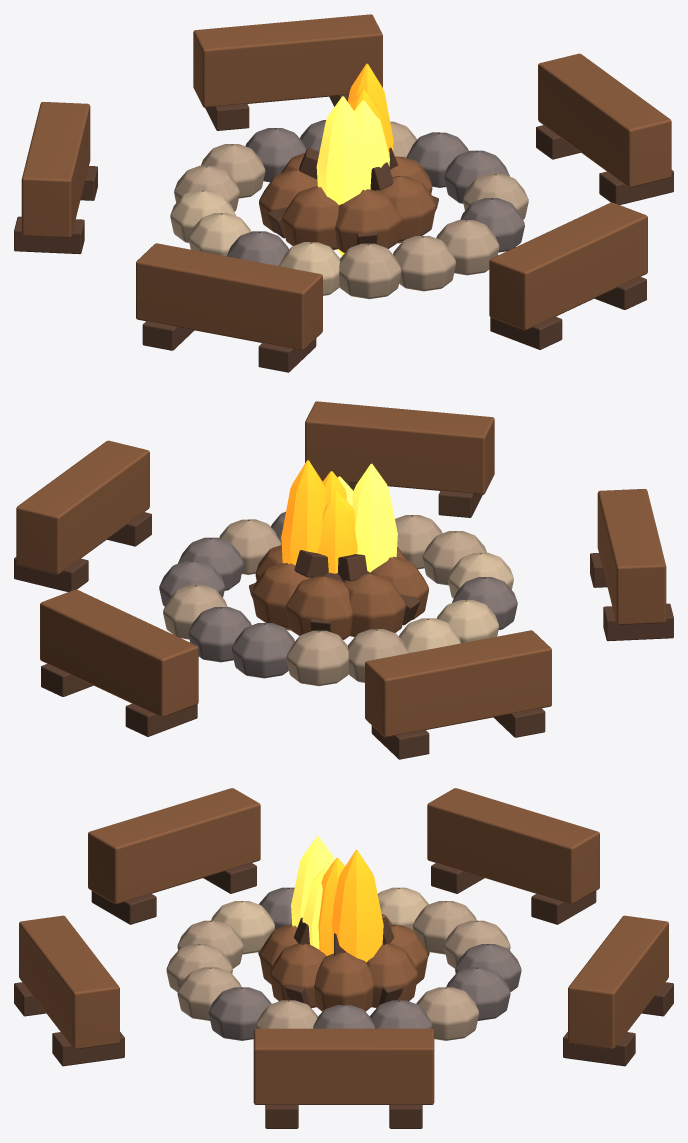
The model's file is ashwick-gathering-pit.meshopt.glb.
3 views of the same model, one above another, from view 1: azimuth 30°, elevation 25°; view 2: azimuth 150°, elevation 25°; view 3: azimuth 270°, elevation 25° (orthographic). The views are drawn at different scales.
Visible parts, largest first — view 1: Log benches.001, Fire ring.004, Split logs.001, Bench sleepers.001, Fire ring.003, Fire ring.005, Flames.003, Hearth fuel.001, Flames.002; view 2: Log benches.001, Fire ring.004, Fire ring.003, Split logs.001, Bench sleepers.001, Flames.002, Fire ring.005, Flames.003, Hearth fuel.001; view 3: Log benches.001, Fire ring.004, Bench sleepers.001, Fire ring.003, Split logs.001, Flames.002, Fire ring.005, Flames.003, Hearth fuel.001.
Part boxes in pixels (x1,y1,x2,y2): Log benches.001: (21, 14, 671, 350); Fire ring.004: (174, 121, 528, 299); Split logs.001: (259, 153, 435, 252); Bench sleepers.001: (14, 94, 673, 372); Fire ring.003: (227, 120, 524, 266); Fire ring.005: (170, 190, 340, 295); Flames.003: (316, 96, 389, 256); Hearth fuel.001: (267, 147, 438, 245); Flames.002: (348, 63, 393, 155); Log benches.001: (16, 401, 666, 737); Fire ring.004: (163, 515, 486, 686); Fire ring.003: (159, 511, 517, 678); Split logs.001: (252, 545, 428, 639); Bench sleepers.001: (14, 479, 673, 759); Flames.002: (281, 460, 357, 573); Fire ring.005: (399, 552, 513, 653); Flames.003: (337, 463, 397, 572); Hearth fuel.001: (249, 550, 420, 632); Log benches.001: (19, 788, 668, 1104); Fire ring.004: (166, 901, 510, 1040); Bench sleepers.001: (14, 862, 673, 1128); Fire ring.003: (208, 887, 521, 1040); Split logs.001: (260, 914, 427, 1011); Flames.002: (318, 850, 383, 962); Fire ring.005: (211, 887, 428, 954); Flames.003: (291, 836, 334, 949); Hearth fuel.001: (258, 917, 429, 1004).
Size of the model in its own units: 4.35 by 1.32 by 4.57.
